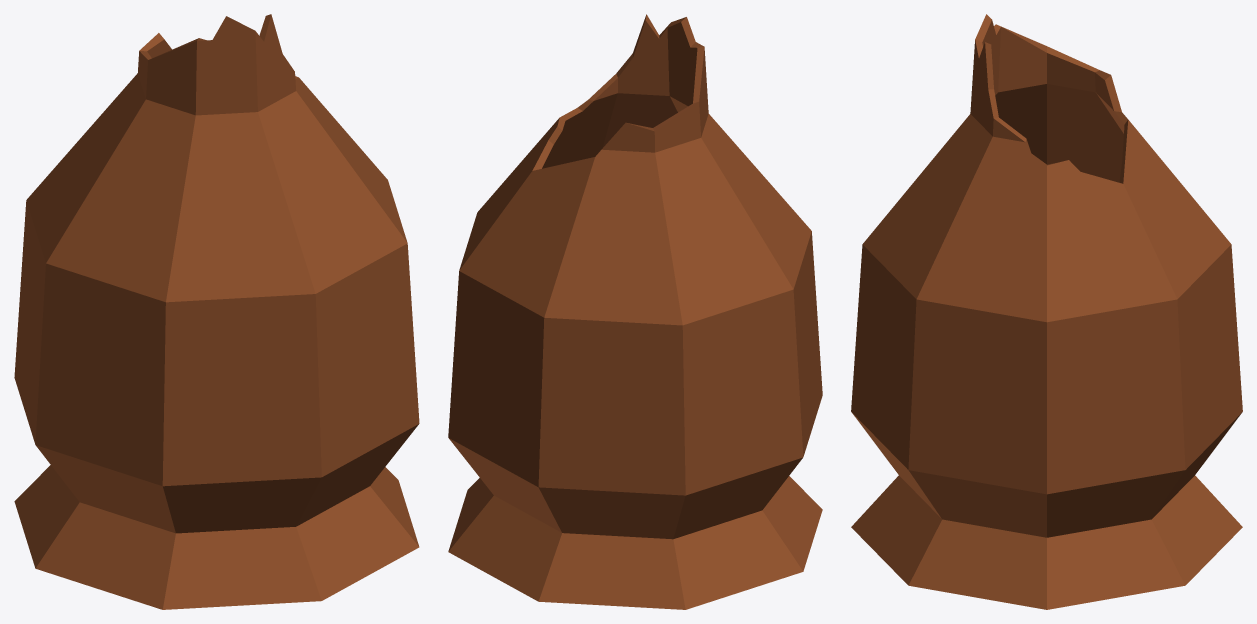
File: Collin_BrokenVase_002_Body.fbx
The picture shows the model from 3 angles, left to right: view 1: azimuth 30°, elevation 25°; view 2: azimuth 150°, elevation 25°; view 3: azimuth 270°, elevation 25°; orthographic projection. The views are drawn at different scales.
Visible parts, largest first — view 1: Broken_Vase_004; view 2: Broken_Vase_004; view 3: Broken_Vase_004.
Boxes of the visible parts, x1=… form: Broken_Vase_004: x1=14, y1=14, x2=419, y2=609; Broken_Vase_004: x1=448, y1=14, x2=822, y2=609; Broken_Vase_004: x1=851, y1=14, x2=1242, y2=609.
Bounding box in the file's own units: 24.98 × 35.36 × 24.98.
1 material, 1 textured.
